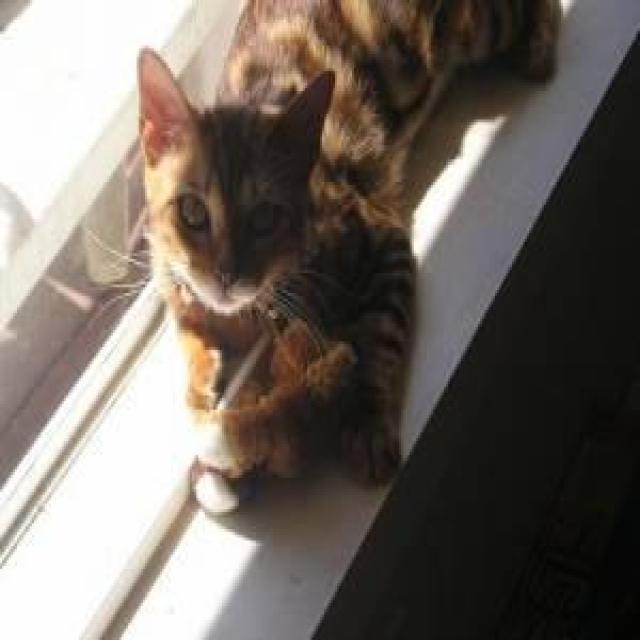cat: (136, 0, 564, 509)
